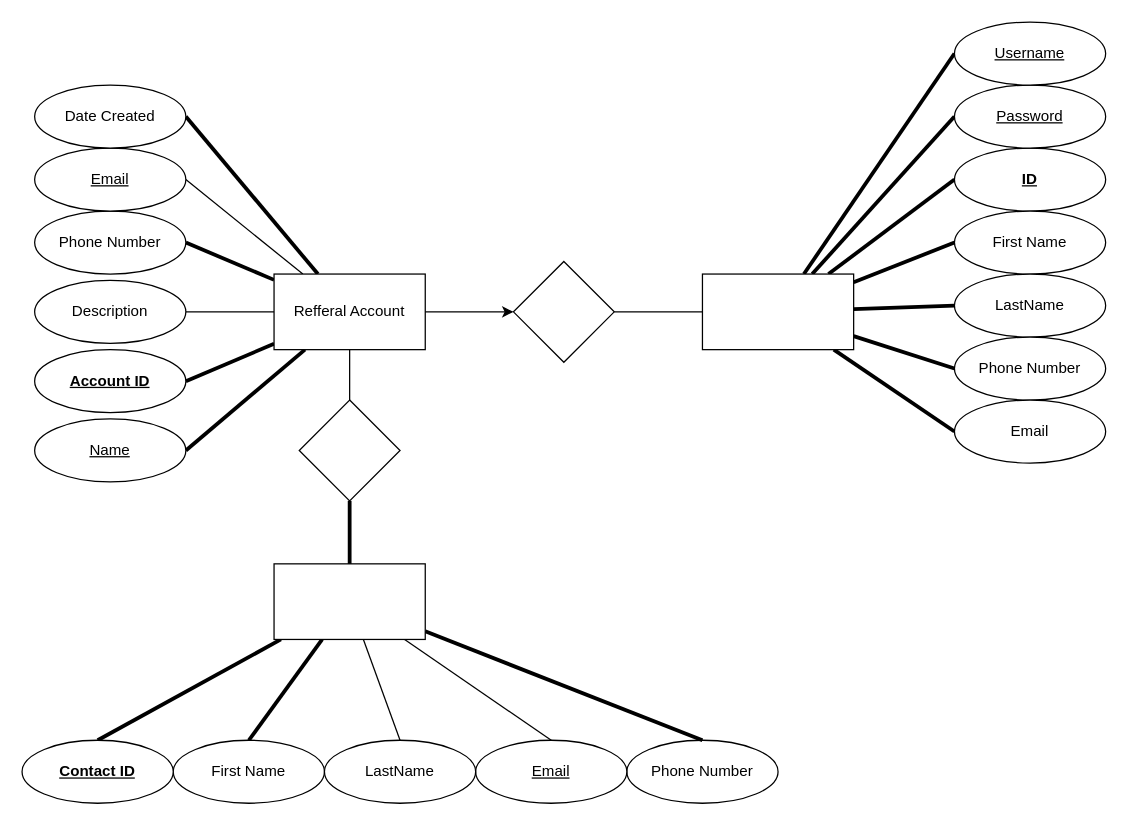
The diagram is 1128 pixels wide and 825 high, and some of its shapes have lost their labels. Here are the shapes that lost their labels. From the top down, the centre of each, then its label:
At point 563,311: "Created by".
At point 777,311: "User".
At point 349,450: "Has".
At point 349,601: "Contact".
